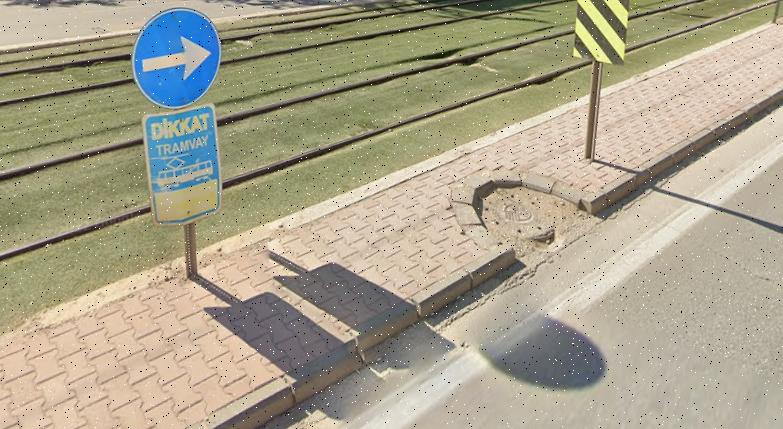turnright: (130, 8, 222, 110)
